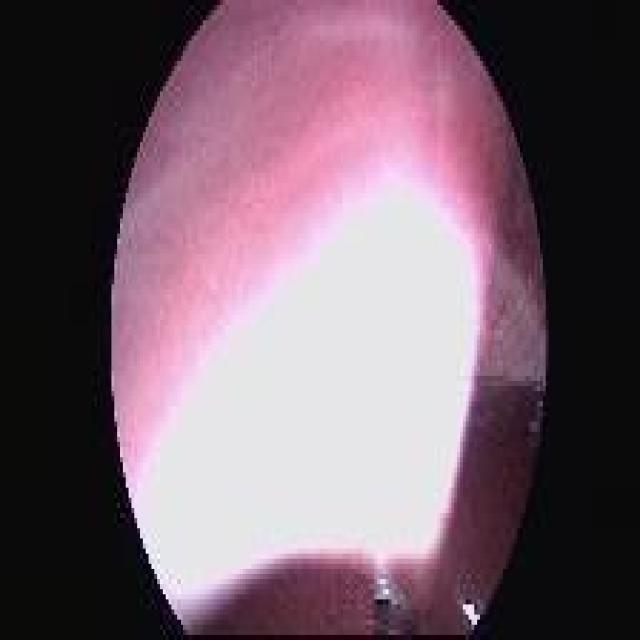color misalignment: (135, 184, 481, 596)
contrast: (470, 421, 534, 529)
saturation: (135, 185, 481, 594), (288, 0, 507, 199)
specularity: (457, 594, 484, 633), (379, 585, 390, 599), (378, 575, 388, 585)
